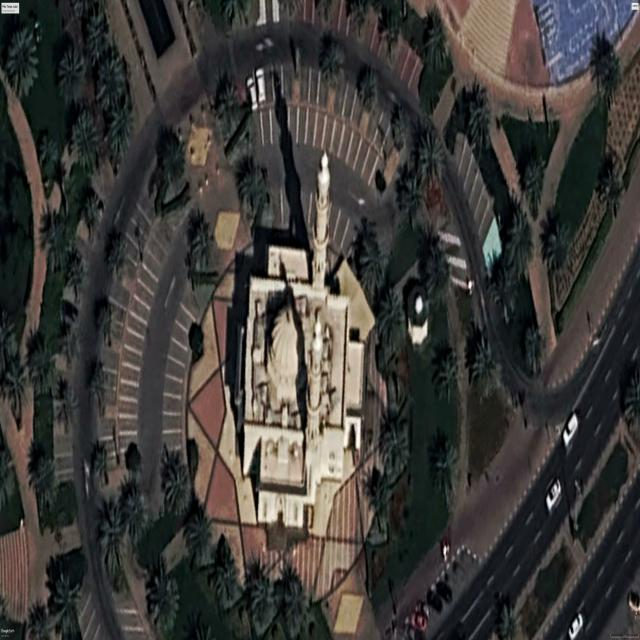mosque: (242, 152, 364, 529)
